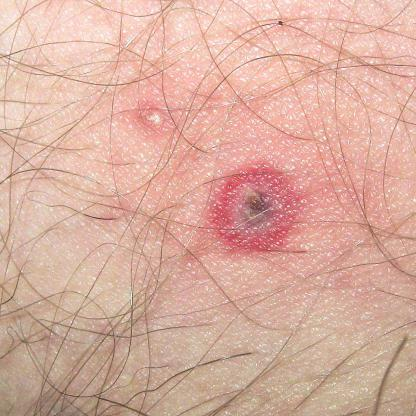Tick: (198, 157, 311, 262)
